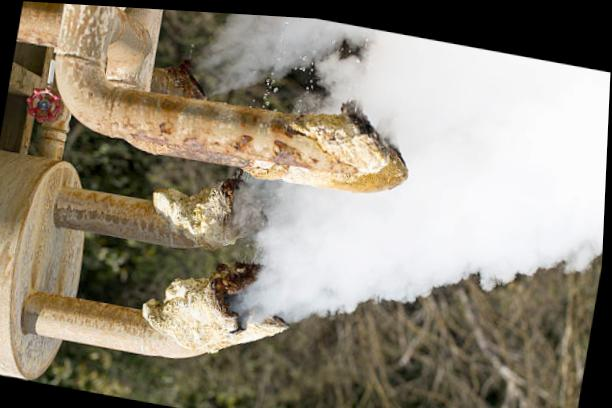leak: (198, 15, 610, 328)
